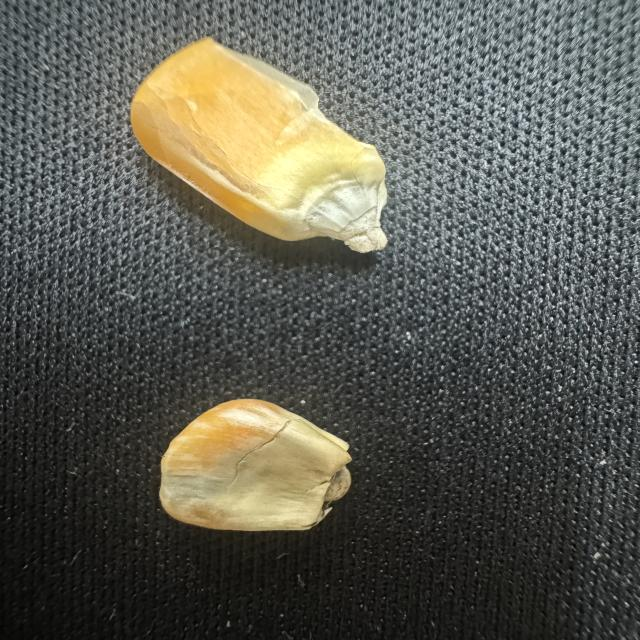Bad-Seed: (119, 35, 414, 268), (149, 390, 375, 538)
